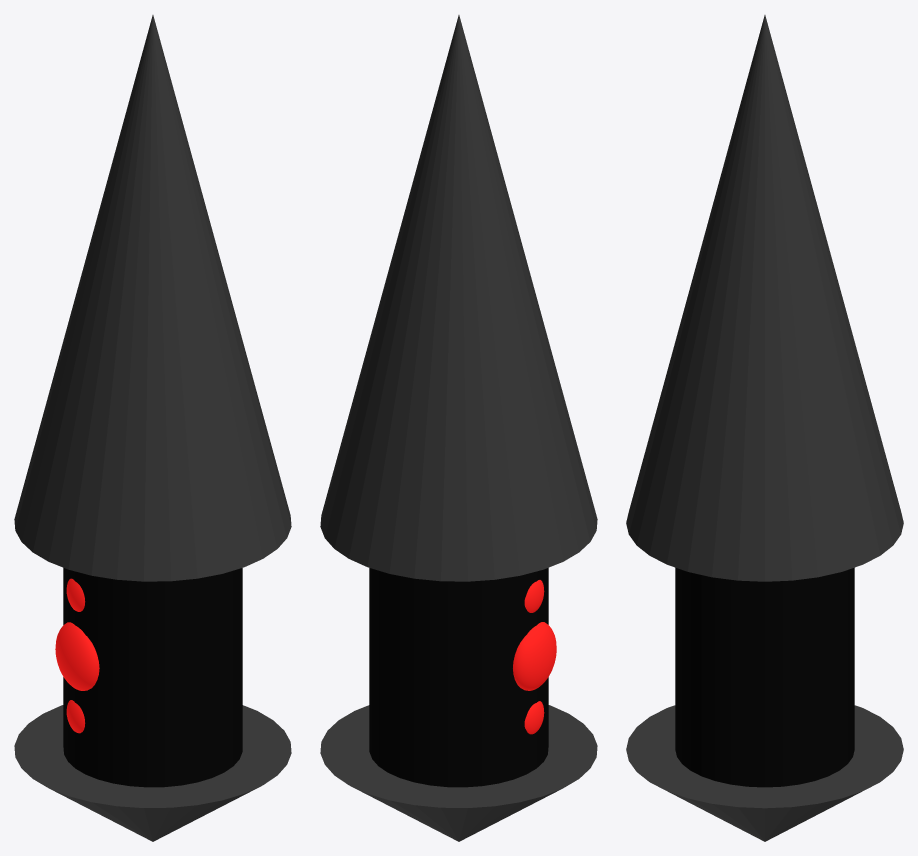
File: Enemy4.fbx
3 views of the same model, side by side, from view 1: azimuth 30°, elevation 25°; view 2: azimuth 150°, elevation 25°; view 3: azimuth 270°, elevation 25° (orthographic).
Visible parts, largest first — view 1: Cylinder.098; view 2: Cylinder.098; view 3: Cylinder.098.
Part boxes in pixels (x1,y1,x2,y2): Cylinder.098: (14,15,291,841); Cylinder.098: (320,15,597,841); Cylinder.098: (626,15,903,841).
Size of the model in its own units: 200 by 658 by 200.
